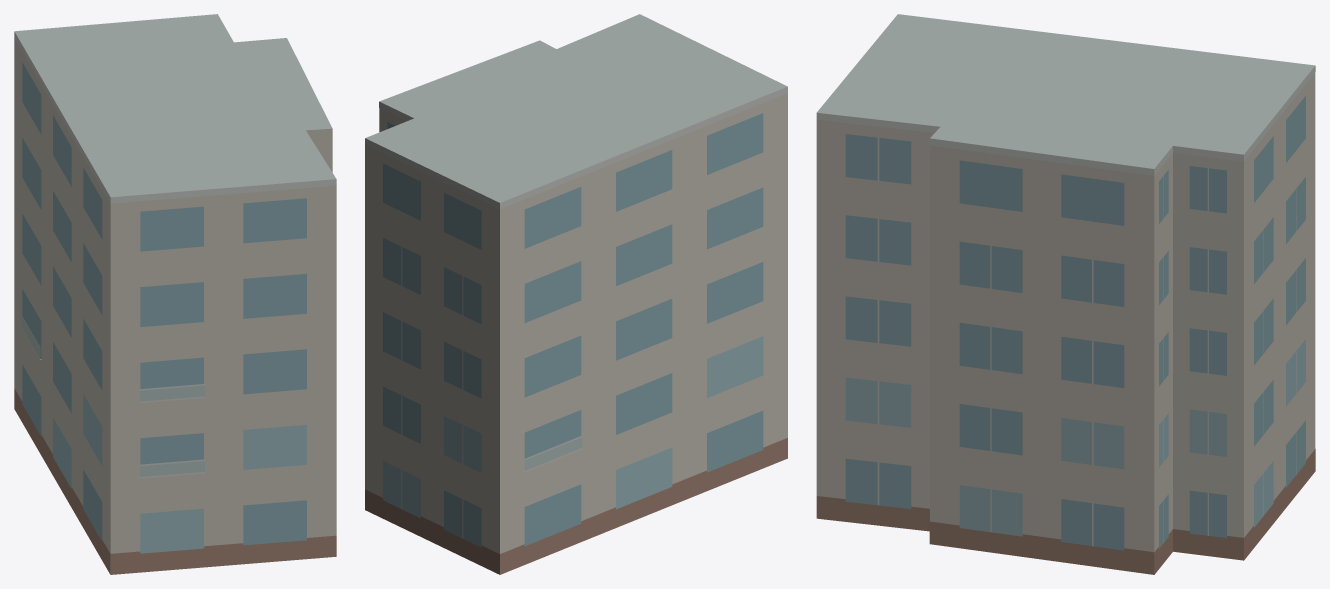
File: survey-upis-32870660.glb
The picture shows the model from 3 angles, left to right: view 1: azimuth 30°, elevation 25°; view 2: azimuth 150°, elevation 25°; view 3: azimuth 270°, elevation 25°; orthographic projection. The views are drawn at different scales.
Visible parts, largest first — view 1: survey-upis-32870660.tmp; view 2: survey-upis-32870660.tmp; view 3: survey-upis-32870660.tmp.
Boxes of the visible parts, left/top/right/bottom form: survey-upis-32870660.tmp: left=14, top=14, right=336, bottom=574; survey-upis-32870660.tmp: left=365, top=14, right=787, bottom=574; survey-upis-32870660.tmp: left=816, top=14, right=1315, bottom=574.
Bounding box in the file's own units: 11.73 × 14.3 × 15.94.
